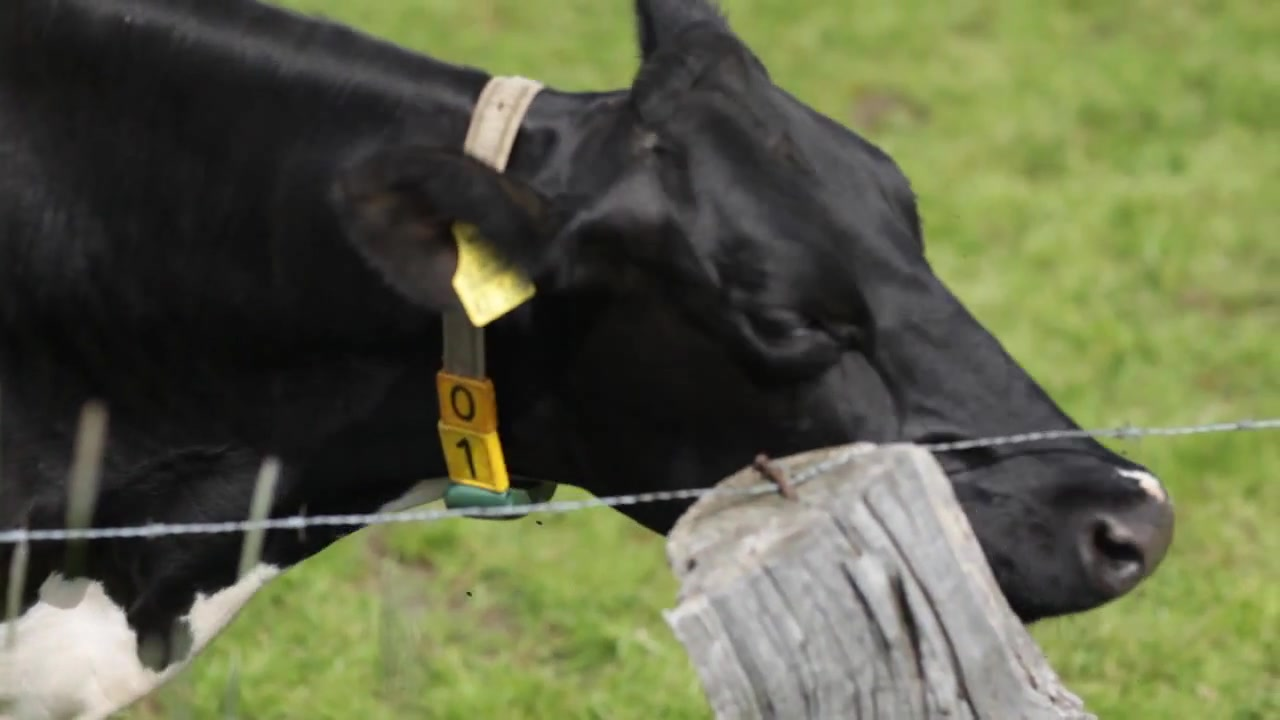cow: (1, 2, 1177, 720)
